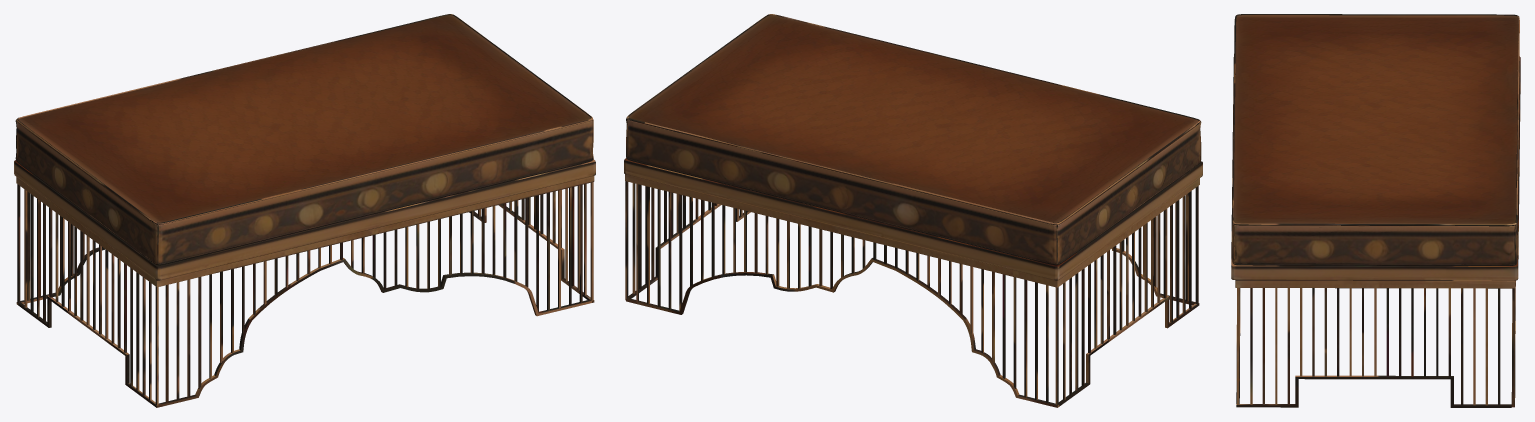
The model's file is edited_mesh.glb.
3 renders of one model, left to right at view 1: azimuth 30°, elevation 25°; view 2: azimuth 150°, elevation 25°; view 3: azimuth 270°, elevation 25°, orthographic.
Parts seen in each view (by area): view 1: solid_001_wire; view 2: solid_001_wire; view 3: solid_001_wire.
Boxes of the visible parts, box(x1,y1,x2,y2) form: solid_001_wire: box(14, 14, 595, 407); solid_001_wire: box(624, 14, 1202, 407); solid_001_wire: box(1231, 14, 1520, 407).
Size of the model in its own units: 2 by 0.8071 by 1.16.
Materials: 1 (1 with a texture image).
